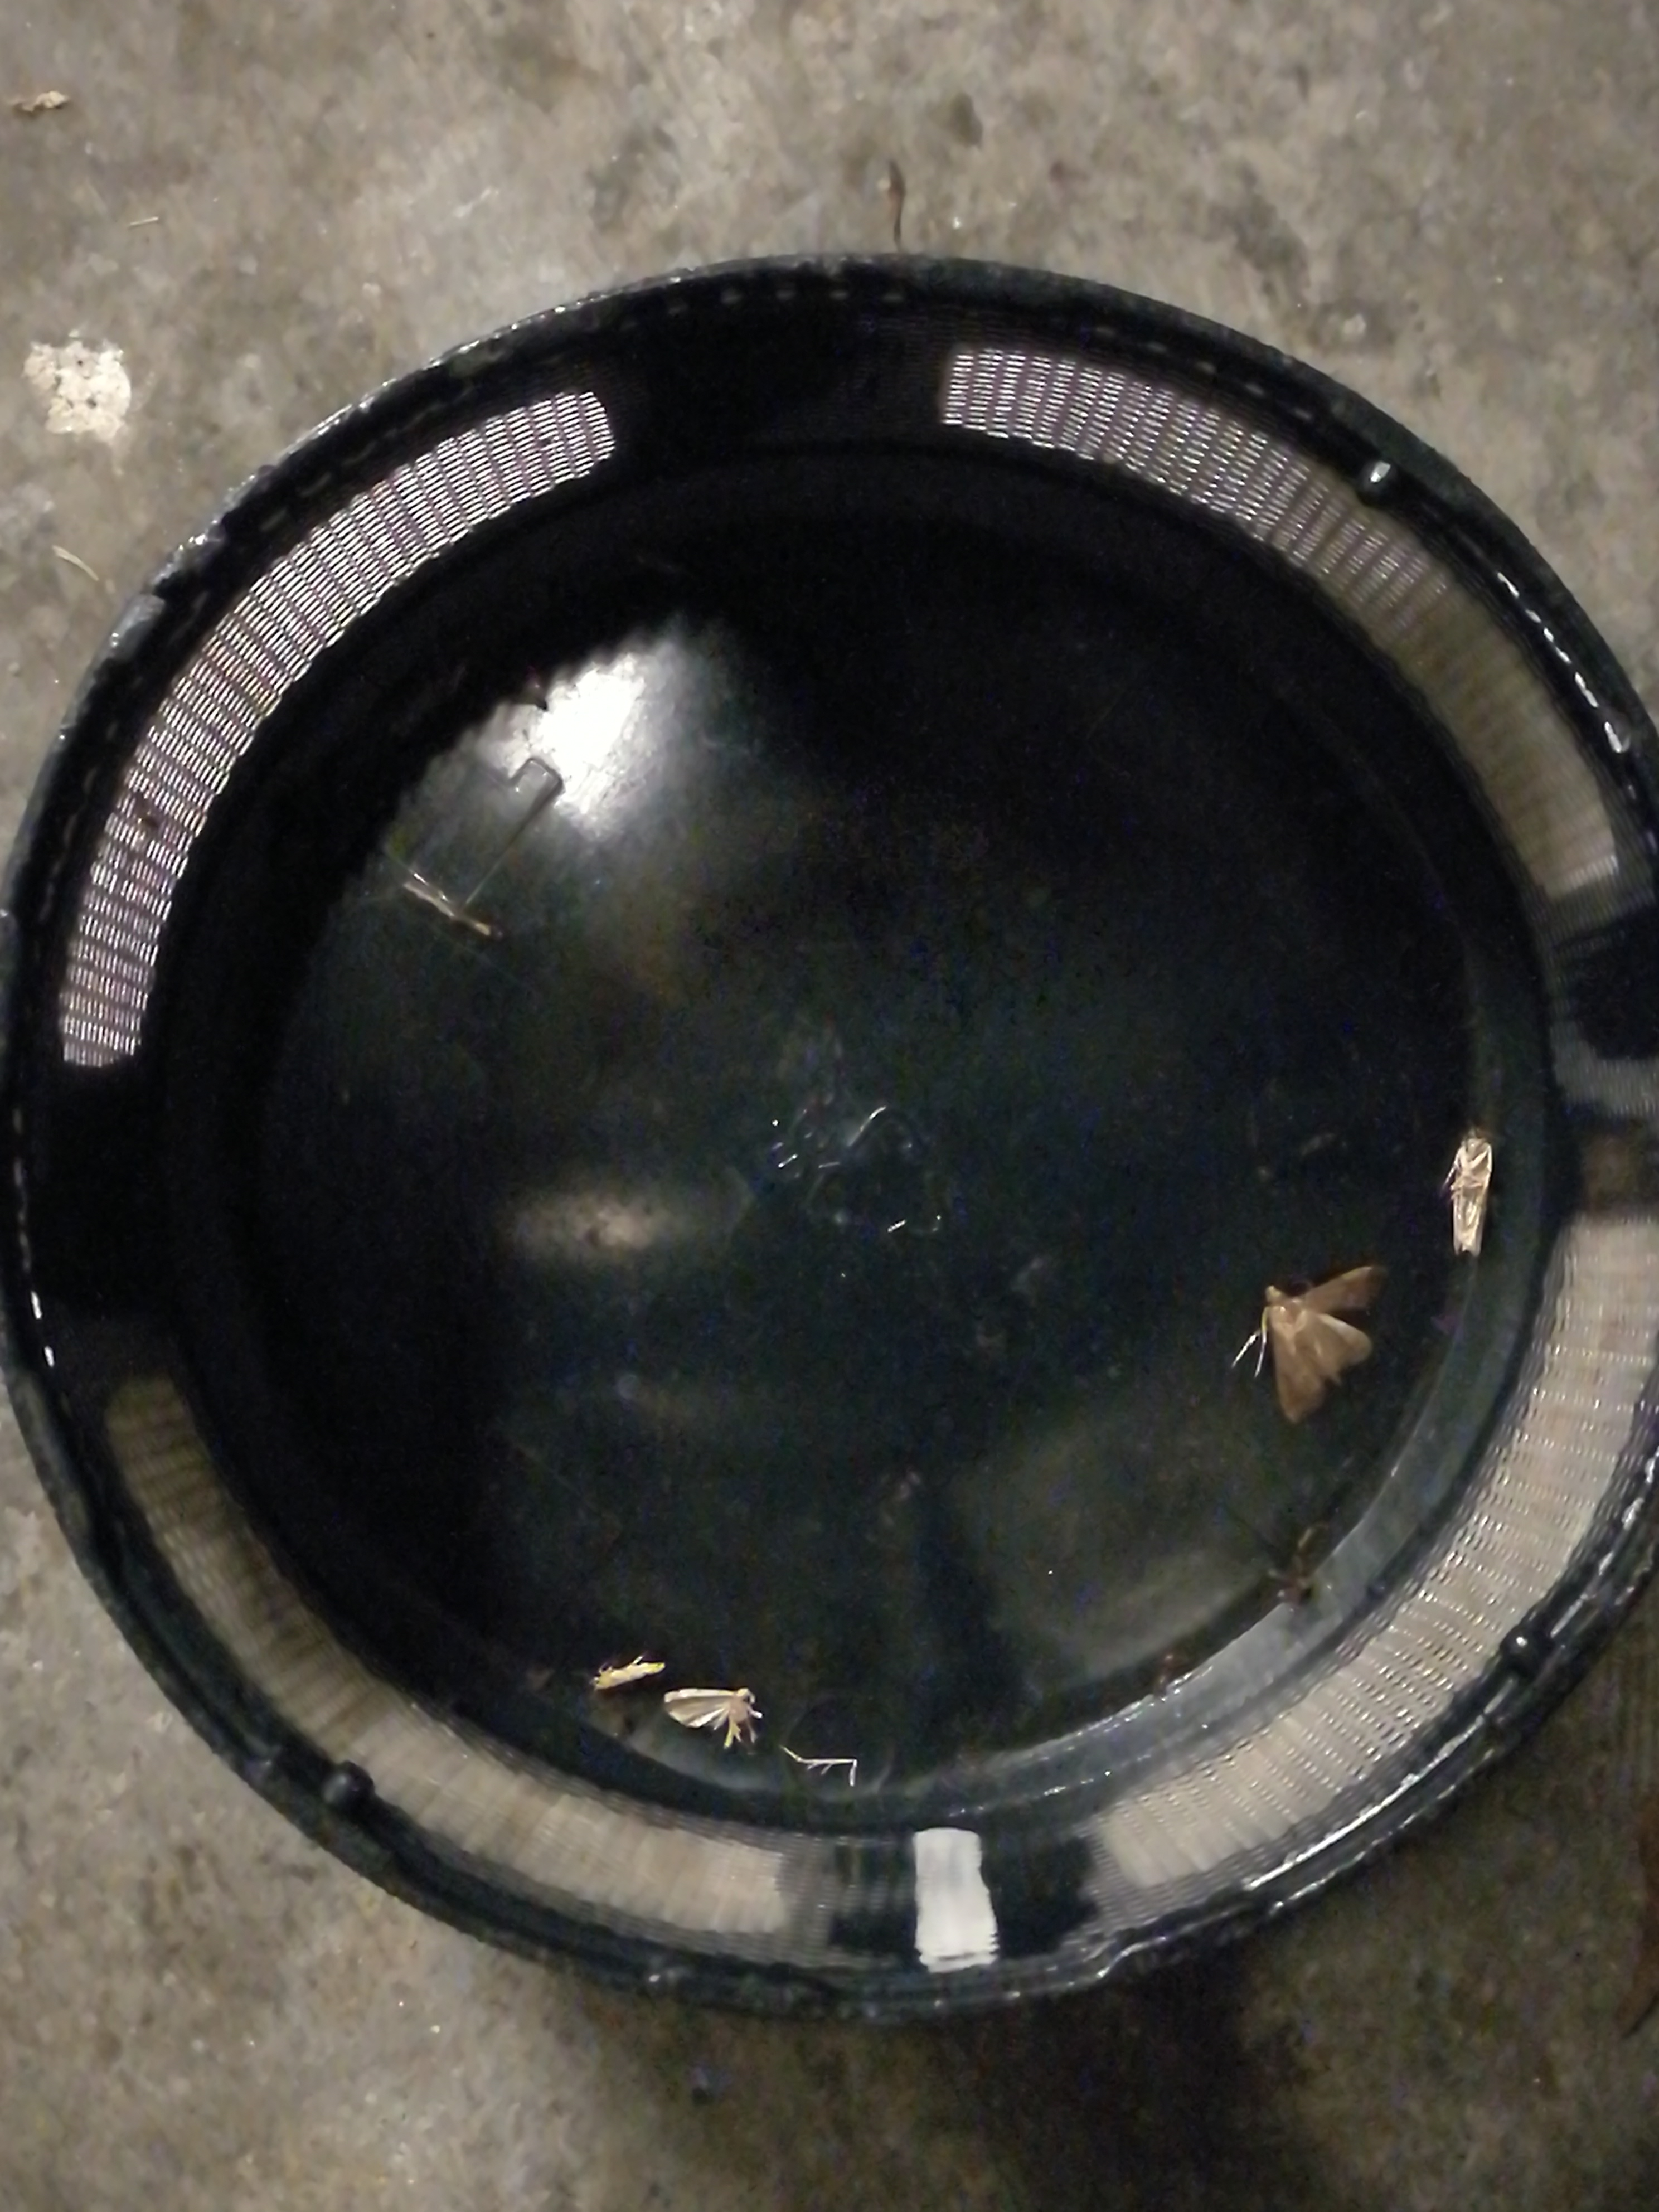mosquito: (1453, 1129, 1493, 1252), (592, 1662, 660, 1689)
moth: (1265, 1266, 1385, 1421), (660, 1684, 756, 1750)
